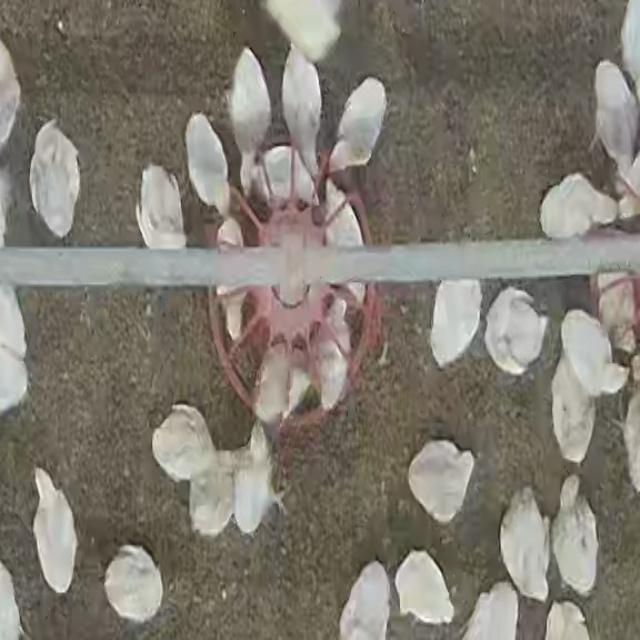chicken: (223, 44, 275, 199), (28, 462, 82, 595), (28, 119, 82, 238), (564, 304, 632, 398), (498, 486, 551, 602), (328, 75, 388, 177), (321, 182, 368, 312), (537, 169, 621, 239), (408, 440, 475, 526), (483, 286, 547, 376), (550, 478, 598, 596), (281, 43, 321, 181), (180, 110, 232, 216), (103, 545, 164, 624), (430, 280, 483, 369), (211, 219, 250, 339), (394, 548, 454, 626), (136, 163, 188, 252), (337, 559, 392, 640), (314, 302, 351, 418), (257, 147, 318, 215)
